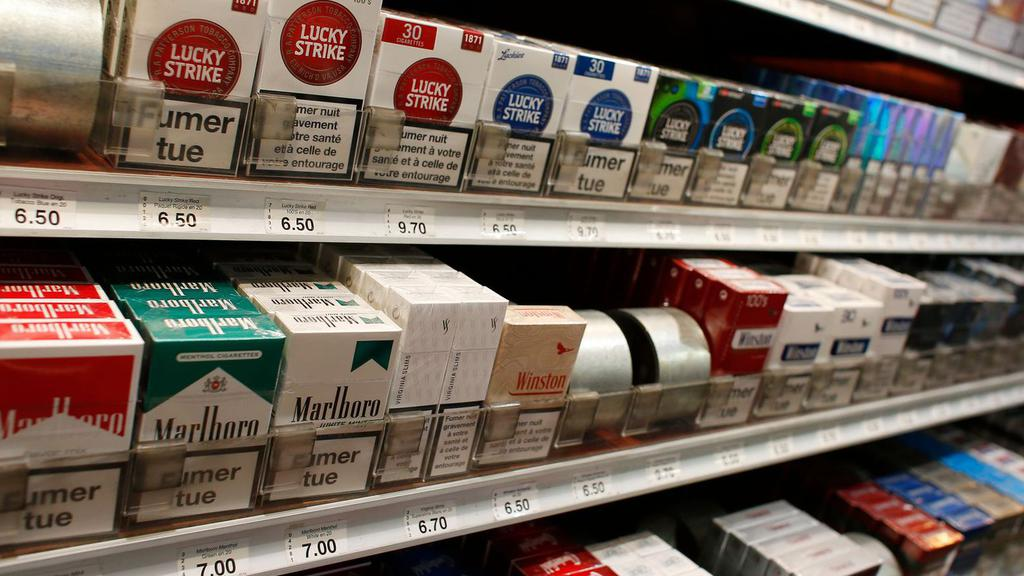lucky_strike_blue: (567, 63, 639, 192), (485, 51, 557, 179)
lucky_strike_red: (134, 2, 248, 163), (266, 1, 360, 176), (378, 27, 476, 183)
marlboro_mentol: (146, 344, 260, 510)
marlboro_red: (1, 344, 125, 535)
